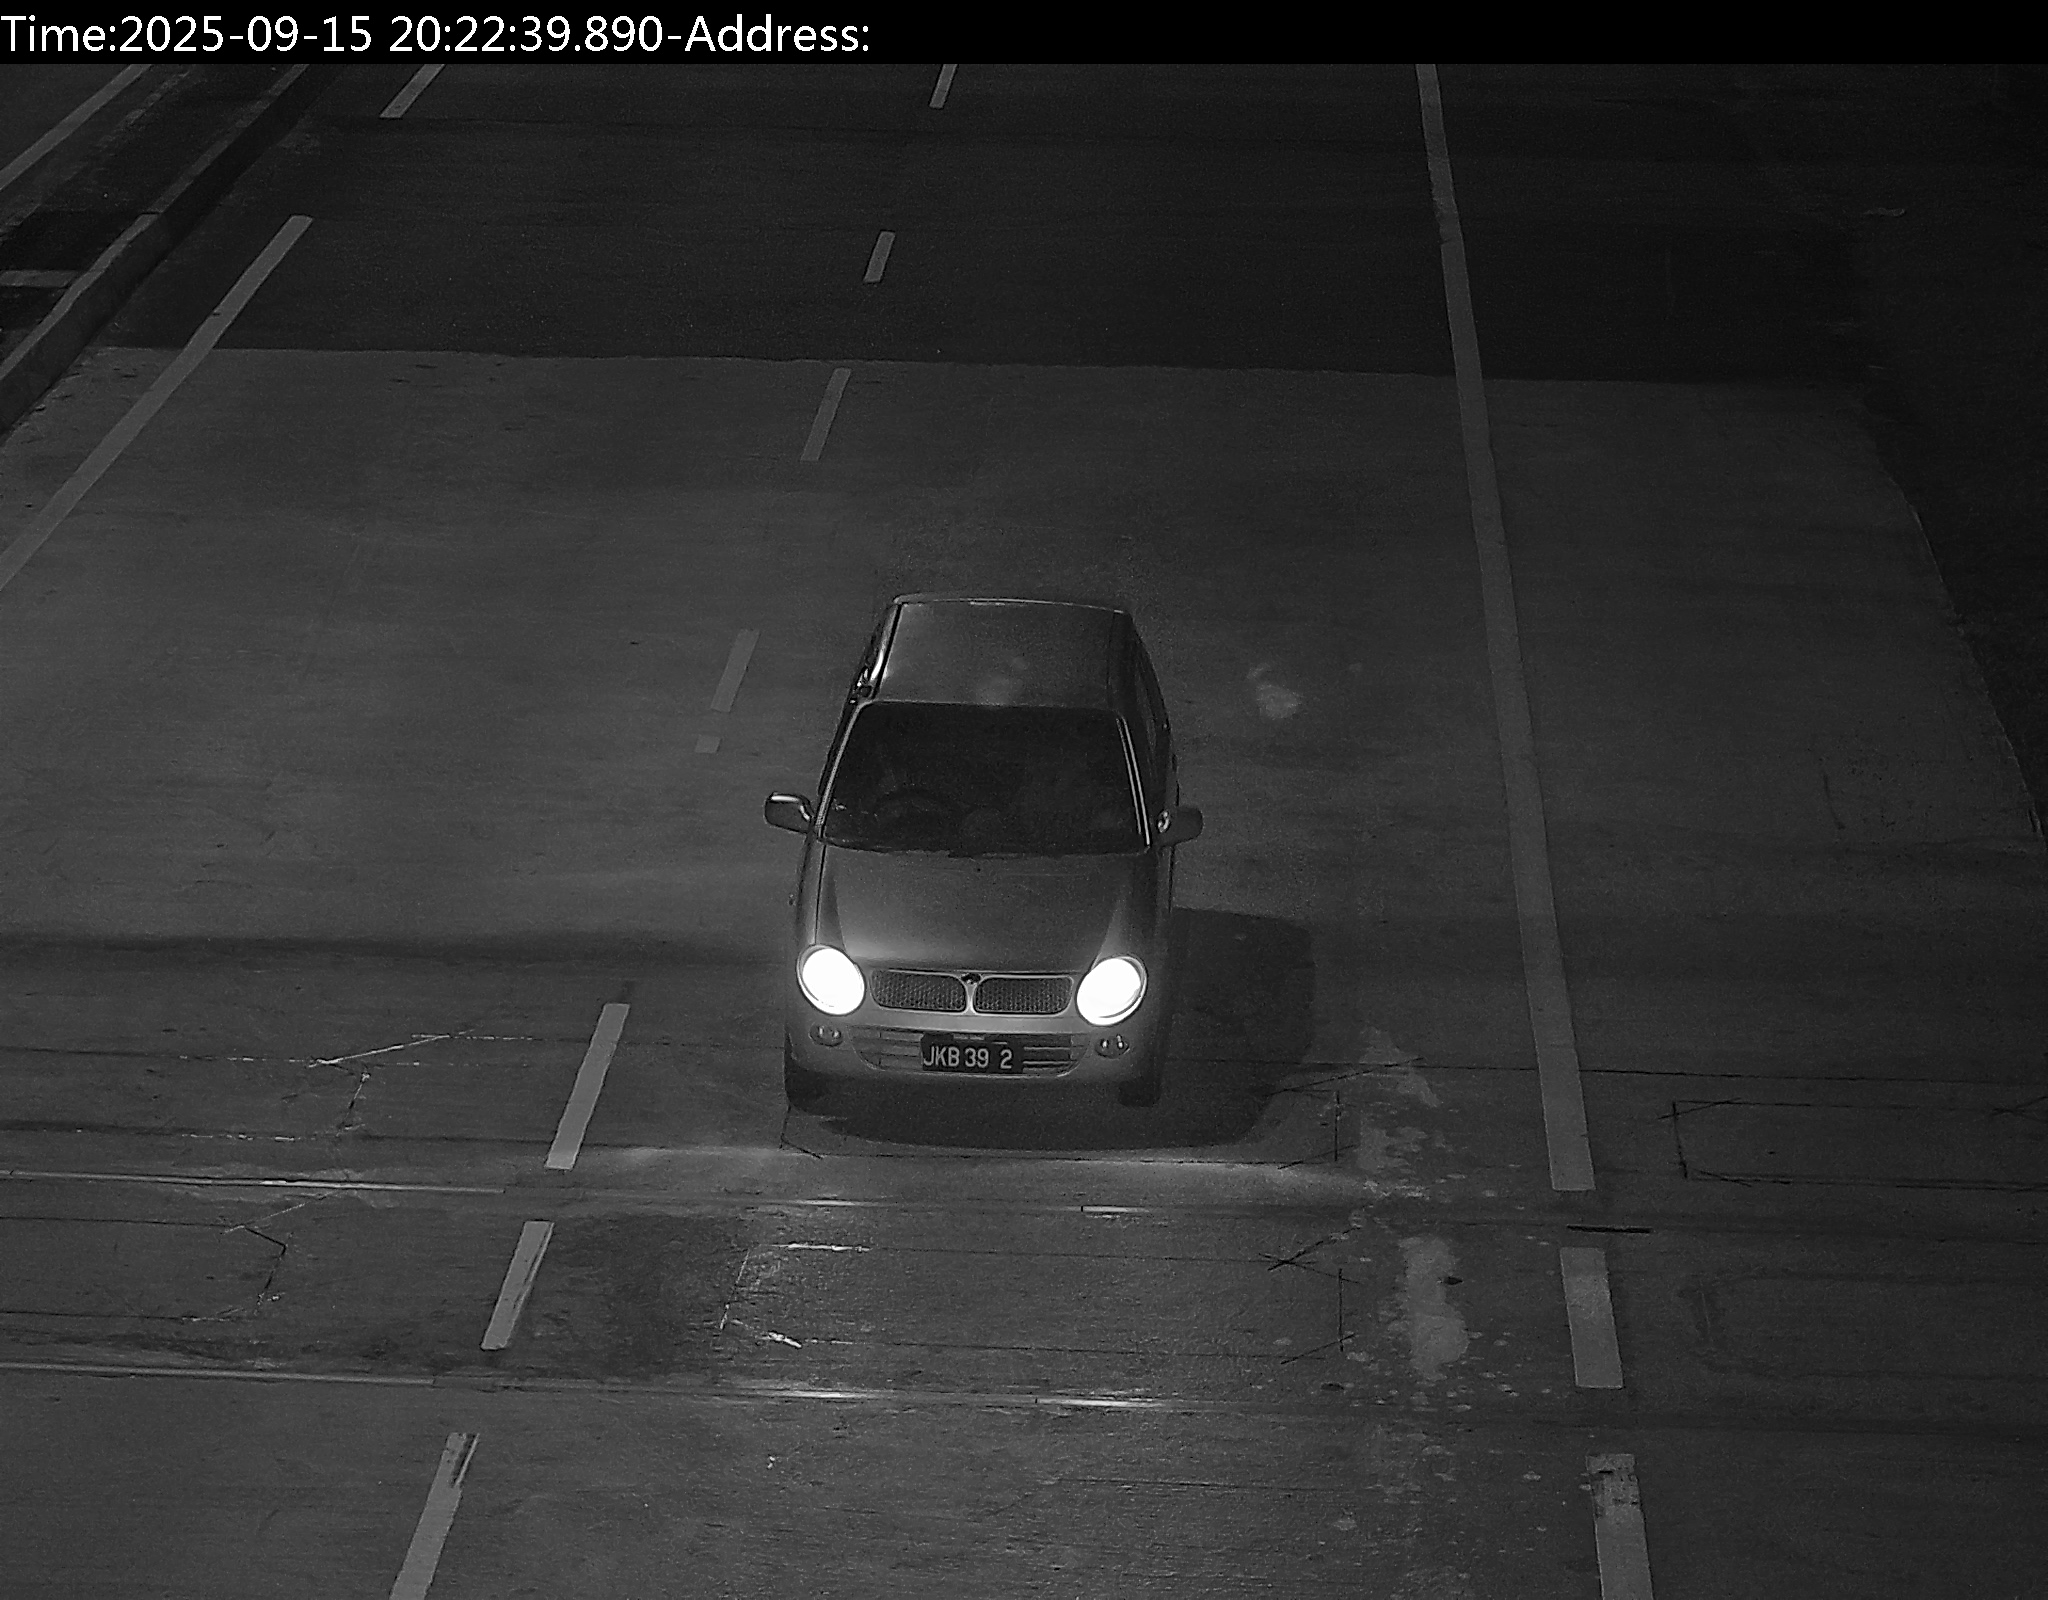class1_lightVehicle: (786, 590, 1182, 1113)
license_plate: (915, 1039, 1027, 1080)
